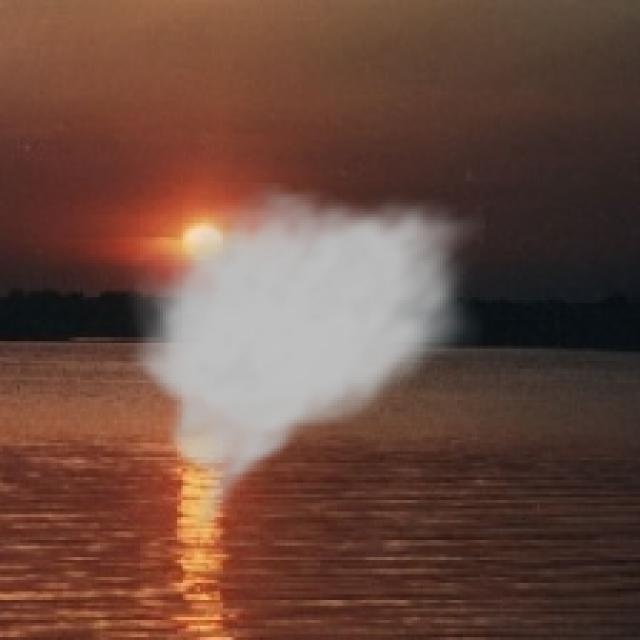Smoke: (123, 183, 486, 540)
